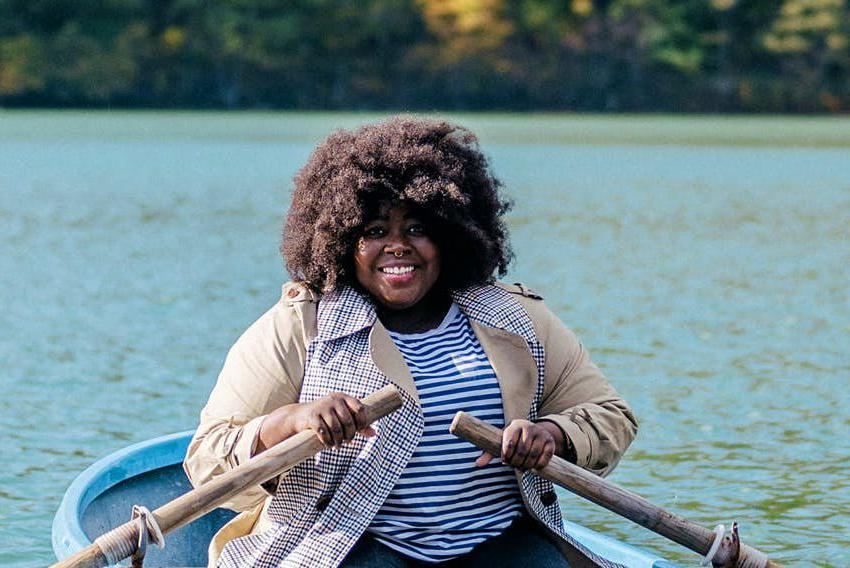Sober: (353, 198, 437, 298)
